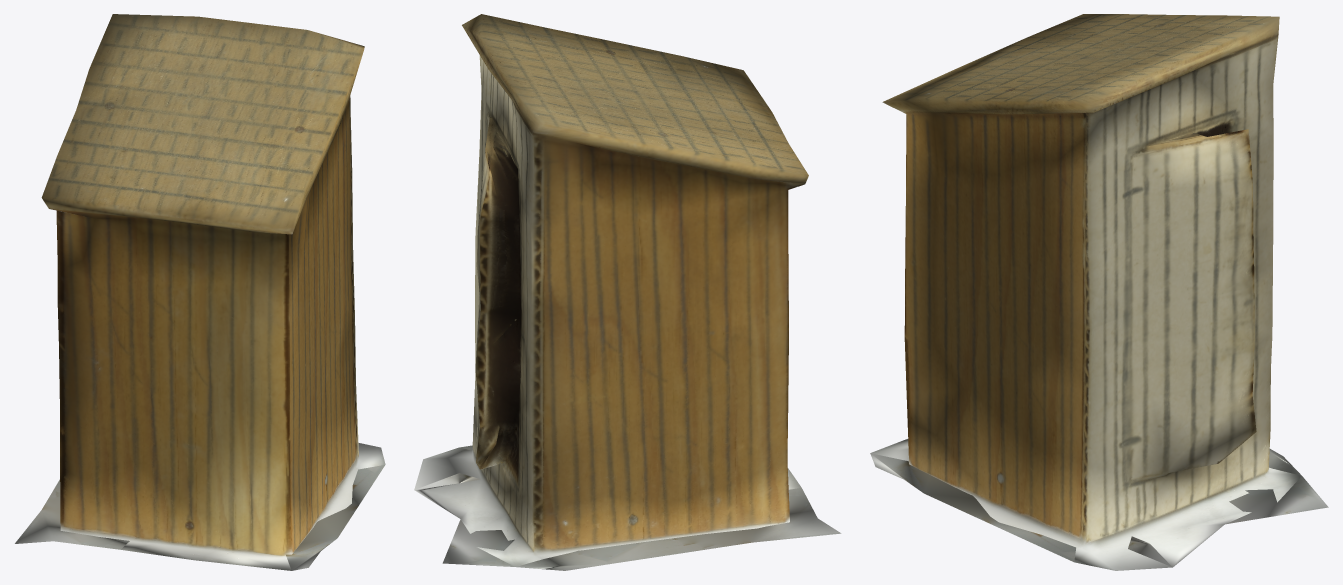
Rendered from mdl_bat_ete_38.fbx.
The picture shows the model from 3 angles, left to right: view 1: azimuth 30°, elevation 25°; view 2: azimuth 150°, elevation 25°; view 3: azimuth 270°, elevation 25°; orthographic projection. The views are drawn at different scales.
Parts seen in each view (by area): view 1: mdl_bat_ete_38; view 2: mdl_bat_ete_38; view 3: mdl_bat_ete_38.
Part boxes in pixels (x1,y1,x2,y2): mdl_bat_ete_38: (15,14,385,570); mdl_bat_ete_38: (414,14,841,570); mdl_bat_ete_38: (870,14,1328,570).
Size of the model in its own units: 5.31 by 5.8 by 5.14.
Materials: 1 (1 with a texture image).
